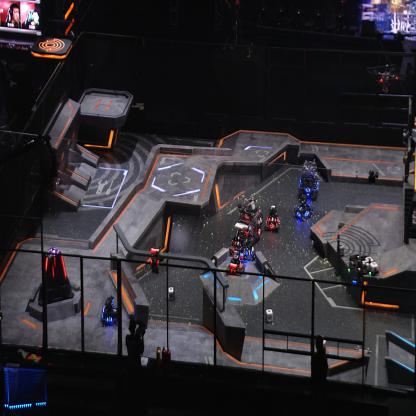car: (237, 196, 263, 244), (297, 160, 320, 202), (229, 218, 253, 256), (101, 294, 119, 328), (225, 250, 246, 278), (235, 235, 256, 261), (294, 193, 312, 222), (265, 205, 280, 232)
